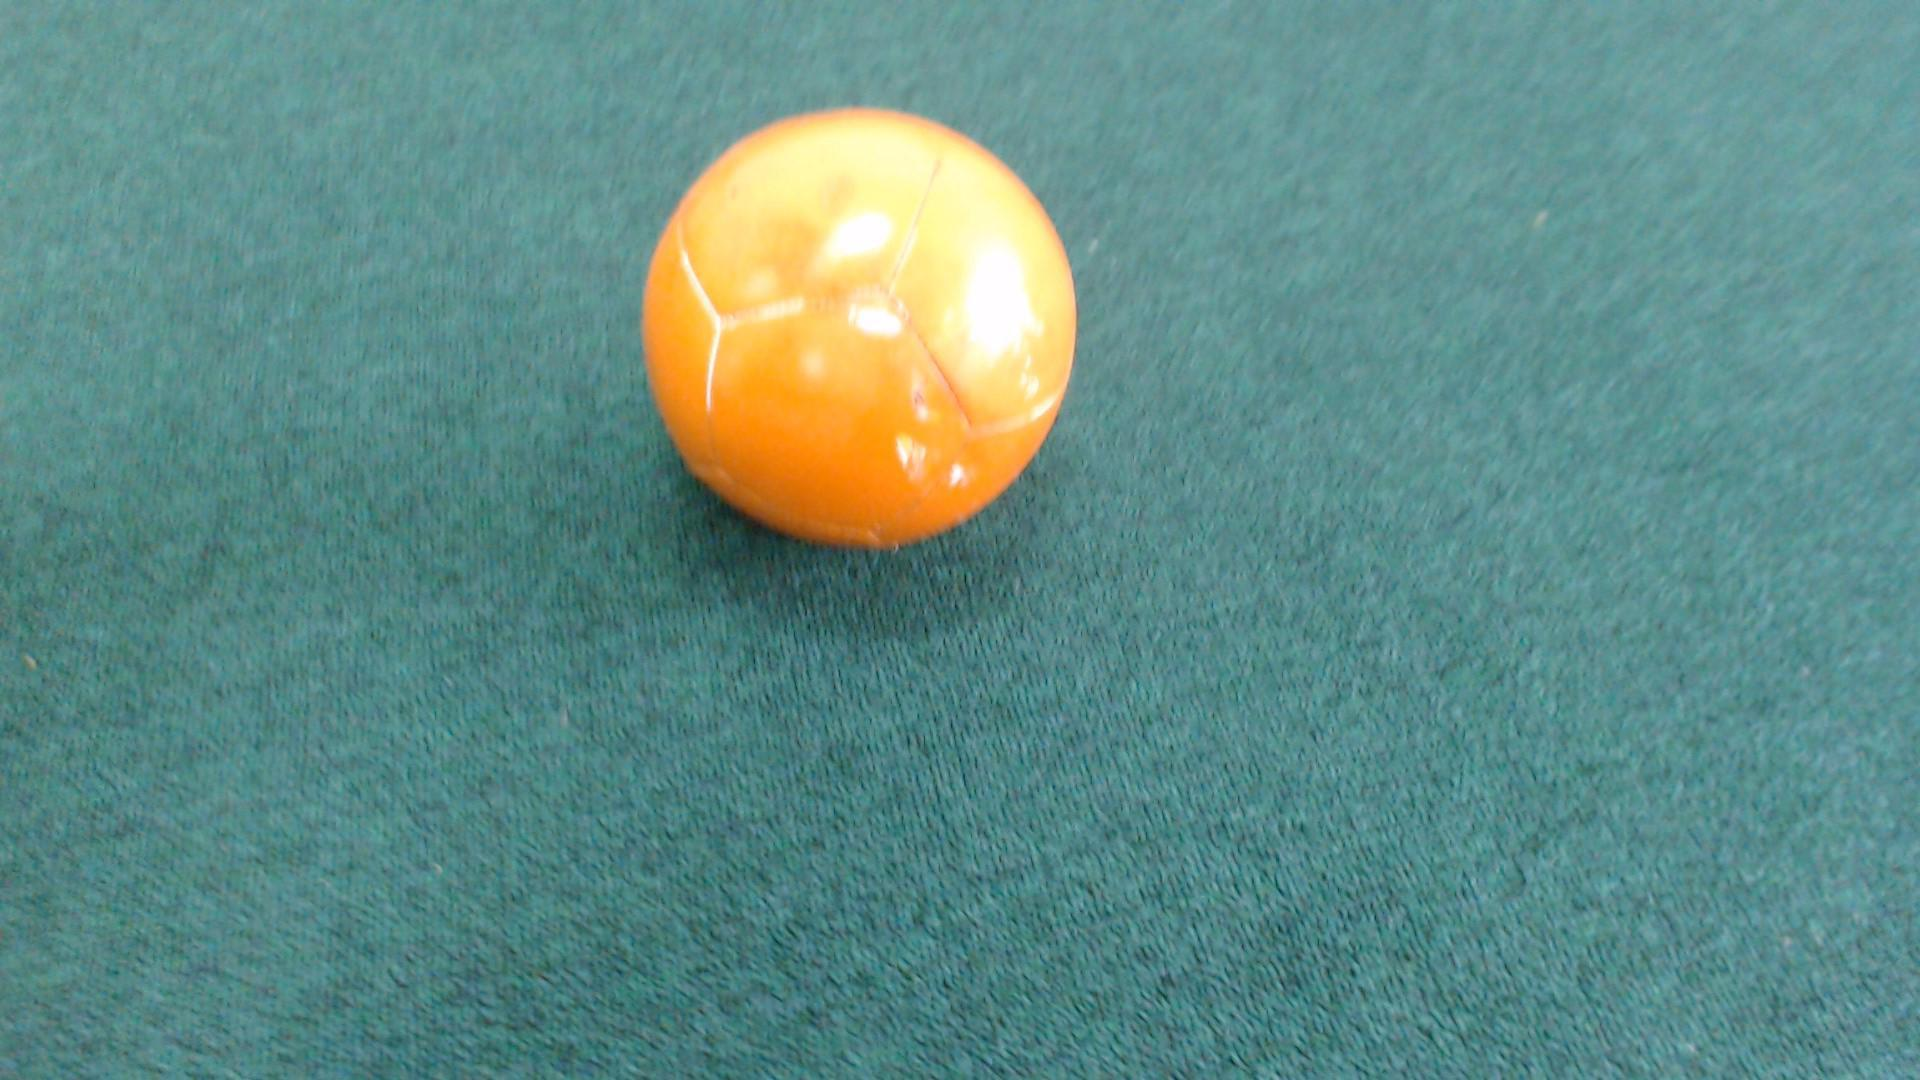bola: (615, 88, 1097, 566)
